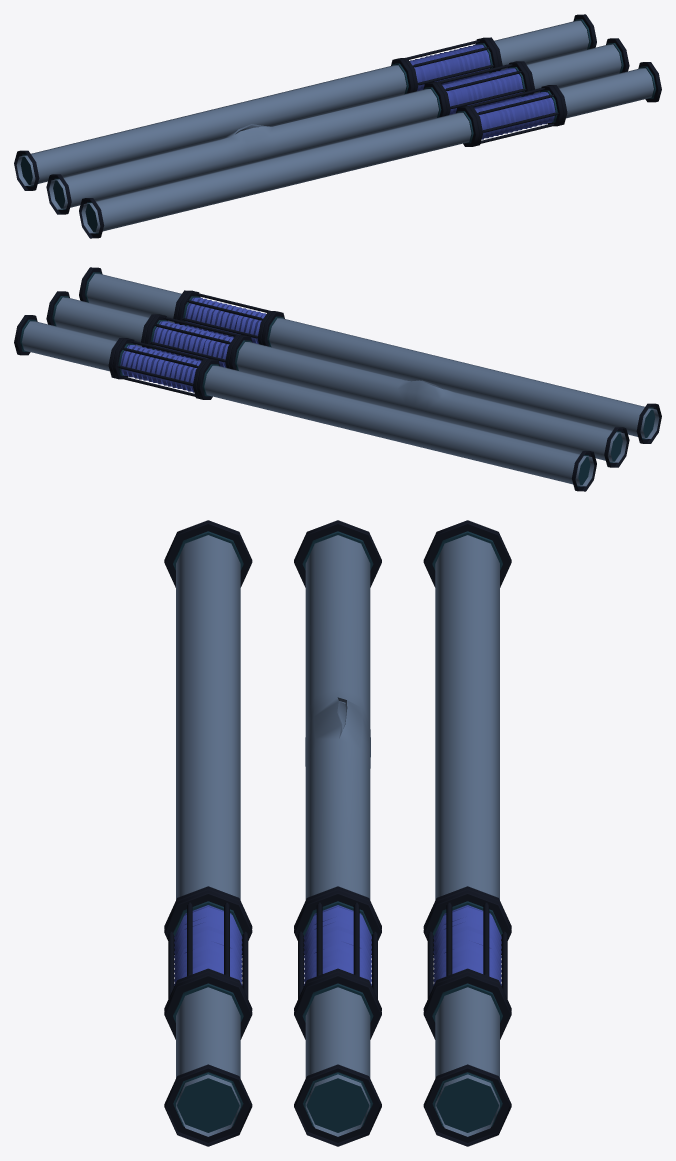
File: PipeComplexSmall_A_04.fbx
3 views of the same model, one above another, from view 1: azimuth 30°, elevation 25°; view 2: azimuth 150°, elevation 25°; view 3: azimuth 270°, elevation 25° (orthographic). The views are drawn at different scales.
Visible parts, largest first — view 1: PipeComplexSmall_A_04.001; view 2: PipeComplexSmall_A_04.001; view 3: PipeComplexSmall_A_04.001.
Boxes of the visible parts, bbox=[...] form: PipeComplexSmall_A_04.001: bbox=[14, 14, 661, 238]; PipeComplexSmall_A_04.001: bbox=[14, 267, 661, 491]; PipeComplexSmall_A_04.001: bbox=[164, 520, 511, 1146].
Size of the model in its own units: 2 by 0.1402 by 0.5356.
